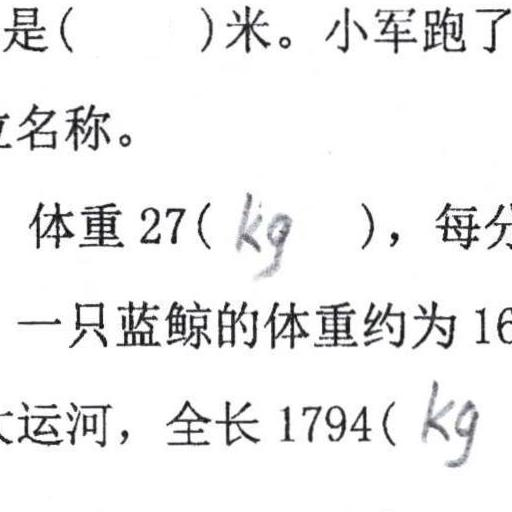ans: (416, 375, 481, 469), (229, 186, 293, 279)
